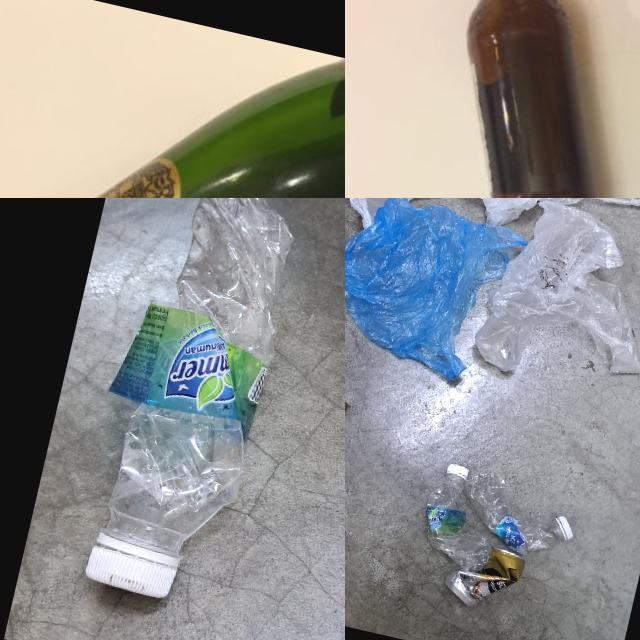garrafa de vidro: (0, 0, 345, 198), (406, 0, 640, 198)
garrafa plástica: (75, 198, 309, 567), (453, 466, 576, 562), (413, 472, 503, 574)
lata: (440, 538, 527, 618)
sacola plástica: (345, 198, 533, 391), (467, 198, 640, 400), (345, 198, 524, 253), (478, 198, 640, 258)
tampa plástica: (82, 543, 178, 600), (554, 516, 576, 540), (446, 463, 469, 478)
